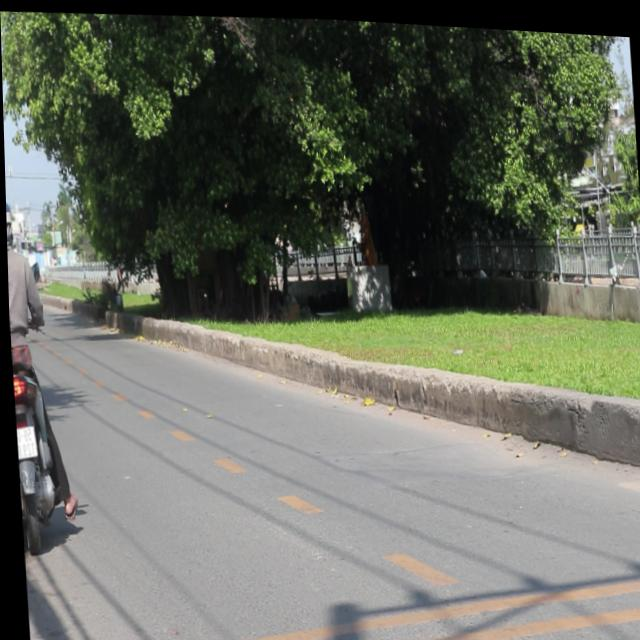helmet: (4, 192, 15, 247)
licenseplate: (4, 188, 74, 559)
nohelmet: (13, 423, 35, 461)
